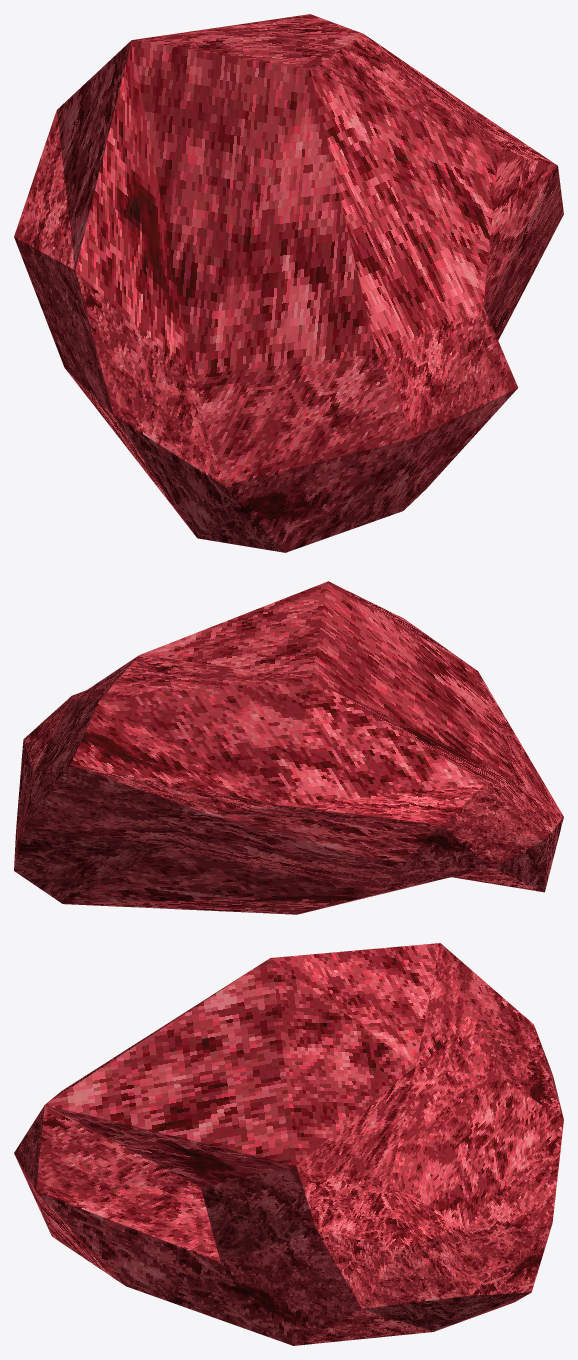
File: bush_red.glb
3 views of the same model, one above another, from view 1: azimuth 30°, elevation 25°; view 2: azimuth 150°, elevation 25°; view 3: azimuth 270°, elevation 25° (orthographic). The views are drawn at different scales.
Visible parts, largest first — view 1: Icosphere.009; view 2: Icosphere.009; view 3: Icosphere.009.
Boxes of the visible parts, <box> form: Icosphere.009: <box>14,14,563,552</box>; Icosphere.009: <box>14,581,563,914</box>; Icosphere.009: <box>14,943,563,1345</box>.
Bounding box in the file's own units: 32.68 × 22.22 × 33.84.
Materials: 1 (1 with a texture image).
